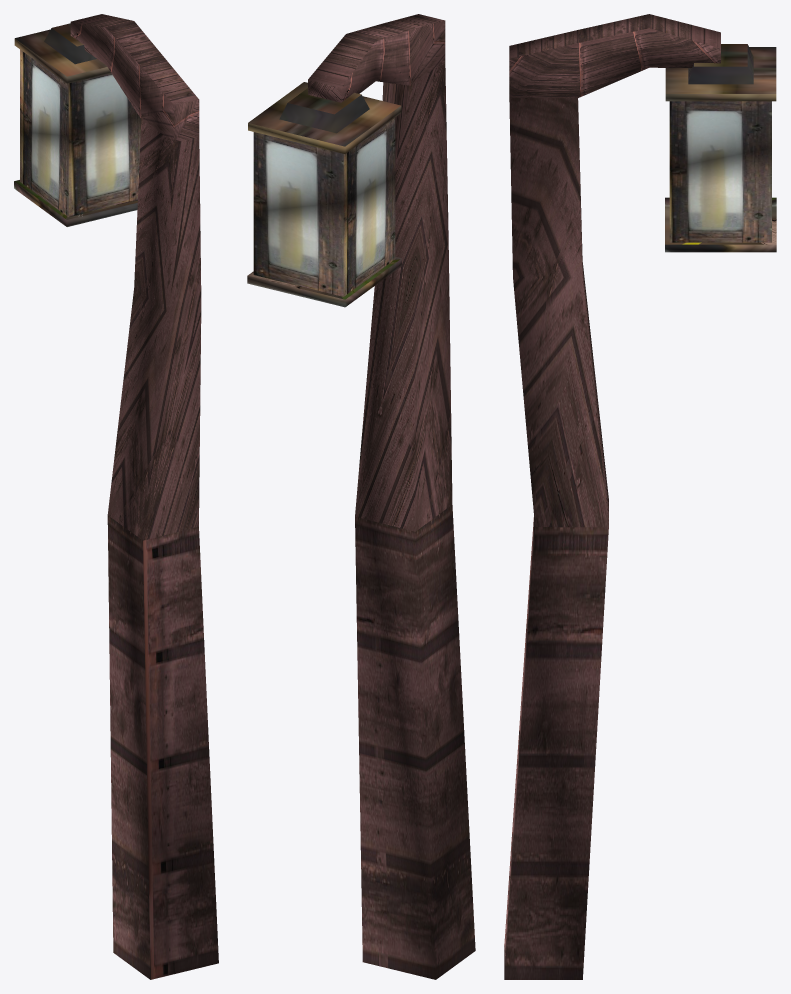
The model's file is Lamparina2.fbx.
3 renders of one model, left to right at view 1: azimuth 30°, elevation 25°; view 2: azimuth 150°, elevation 25°; view 3: azimuth 270°, elevation 25°, orthographic. The views are drawn at different scales.
Parts seen in each view (by area): view 1: Poste2, Lamparina2; view 2: Poste2, Lamparina2; view 3: Poste2, Lamparina2.
Boxes of the visible parts, x1,y1,x2,y2 form: Poste2: (70,14,218,979); Lamparina2: (14,23,141,226); Poste2: (308,14,475,979); Lamparina2: (247,82,401,307); Poste2: (504,14,720,979); Lamparina2: (665,44,776,252).
Bounding box in the file's own units: 34.56 × 84.41 × 323.
